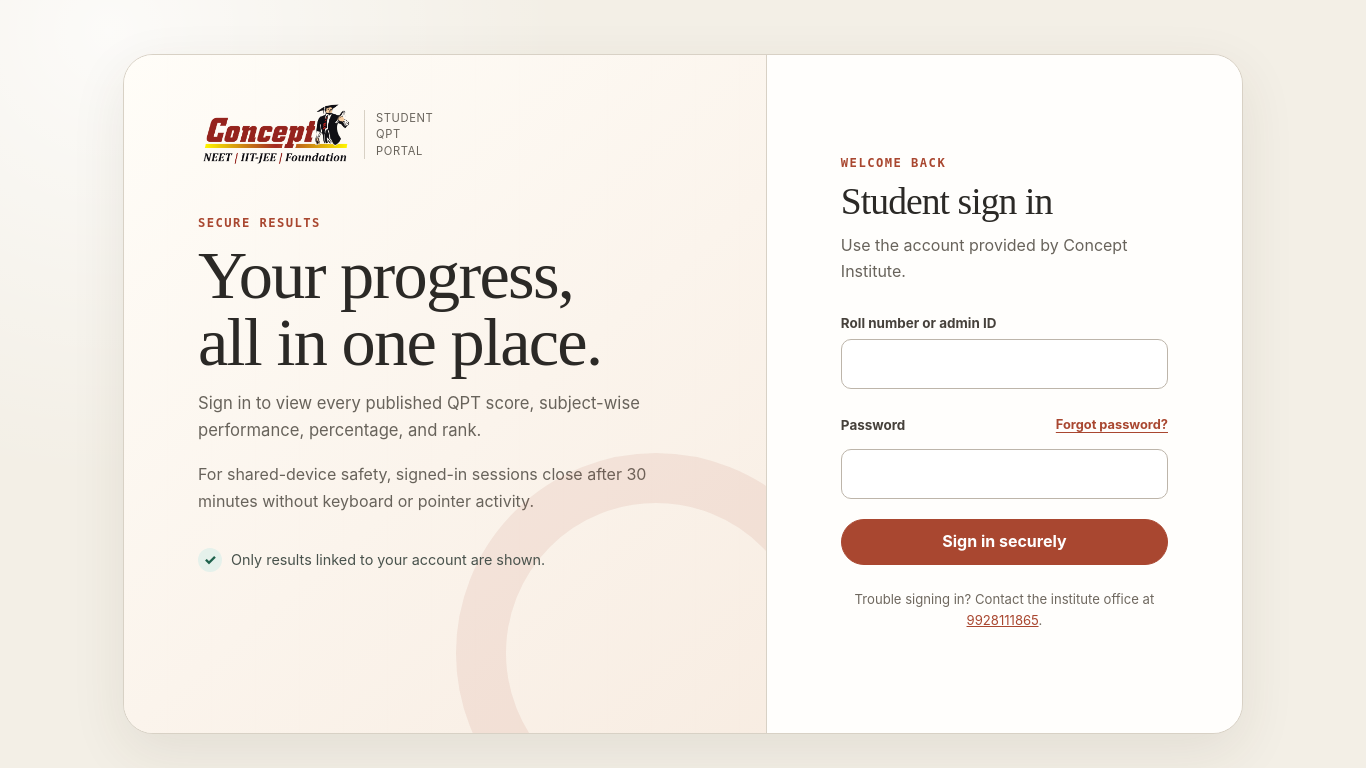
Test: student portal › directs forgotten-password users to the institute without asking for email
Click the button "Forgot password?" at x=1108, y=424, box [1048, 408, 1168, 440]
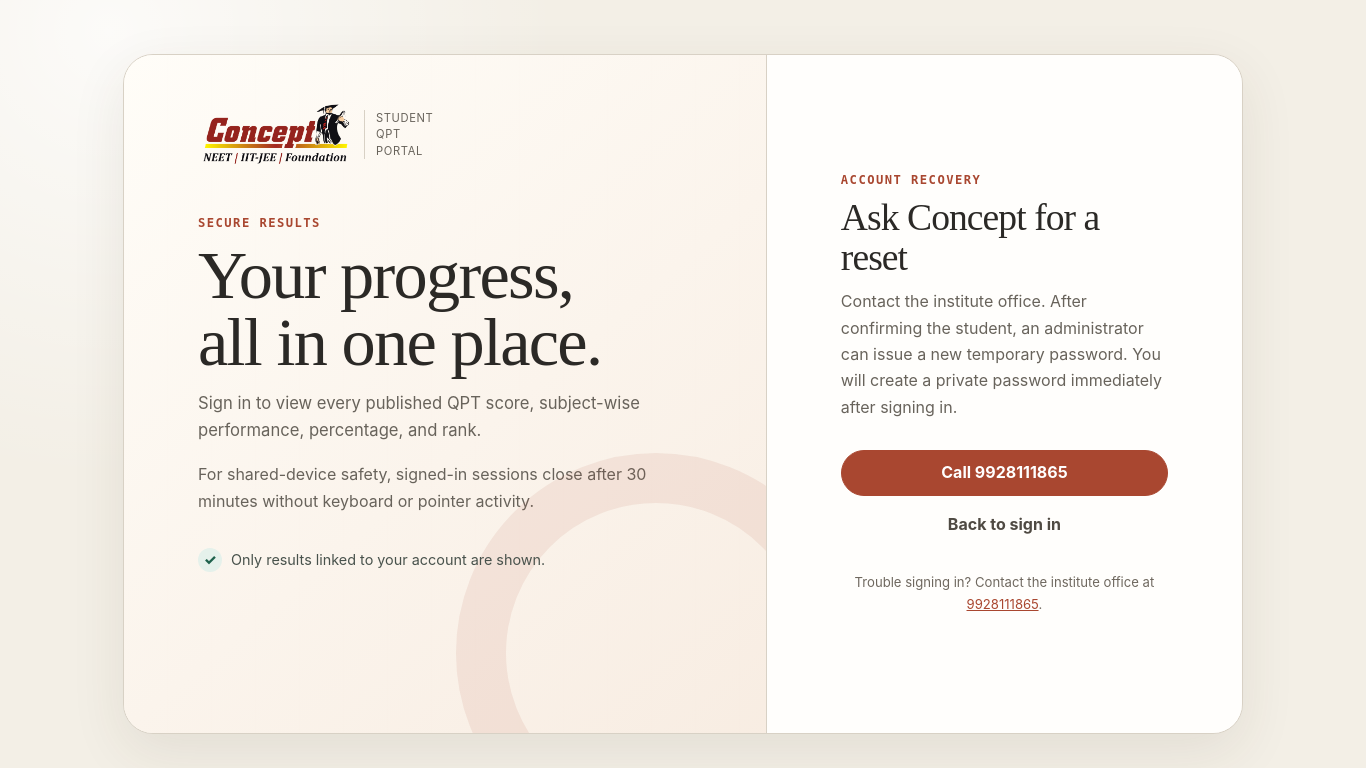
Now the heading "Ask Concept for a reset" is shown, box [841, 197, 1099, 278]
Now the text "new temporary password" is shown, box [841, 291, 1162, 417]
